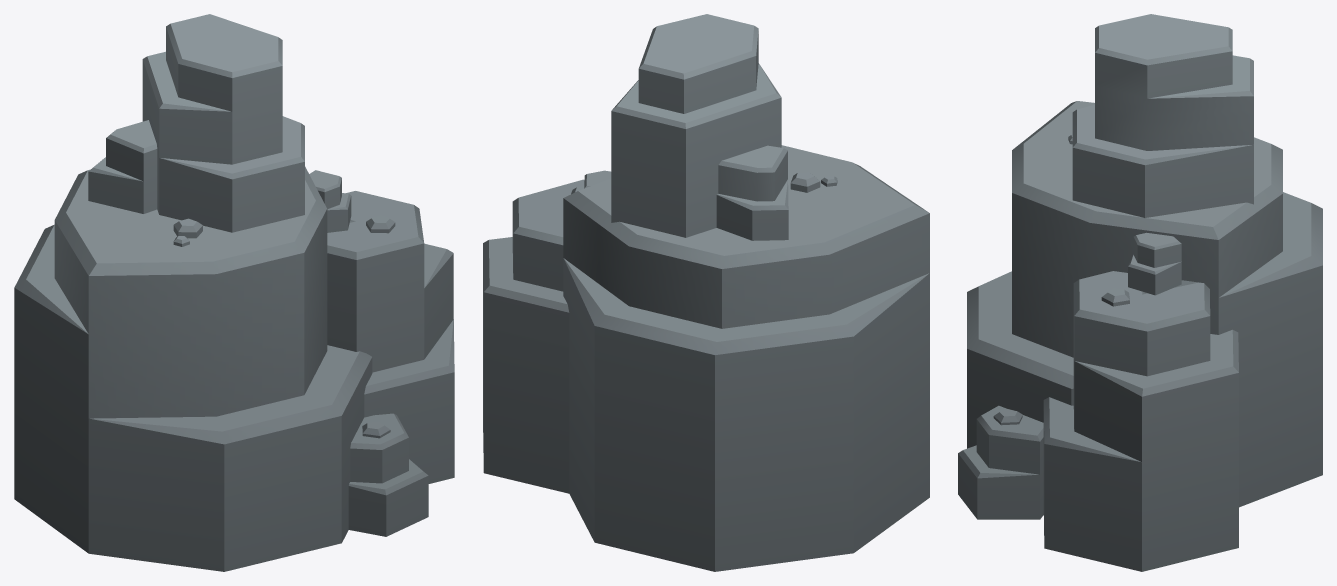
The model's file is Rock_1_L_Color1.glb.
The picture shows the model from 3 angles, left to right: view 1: azimuth 30°, elevation 25°; view 2: azimuth 150°, elevation 25°; view 3: azimuth 270°, elevation 25°; orthographic projection. The views are drawn at different scales.
Visible parts, largest first — view 1: Rock_1_L_Color1; view 2: Rock_1_L_Color1; view 3: Rock_1_L_Color1.
Part boxes in pixels (x1=…): Rock_1_L_Color1: x1=14, y1=14, x2=454, y2=571; Rock_1_L_Color1: x1=483, y1=14, x2=929, y2=571; Rock_1_L_Color1: x1=958, y1=14, x2=1322, y2=571.
Bounding box in the file's own units: 3.29 × 3.4 × 2.62.
Materials: 1 (1 with a texture image).
